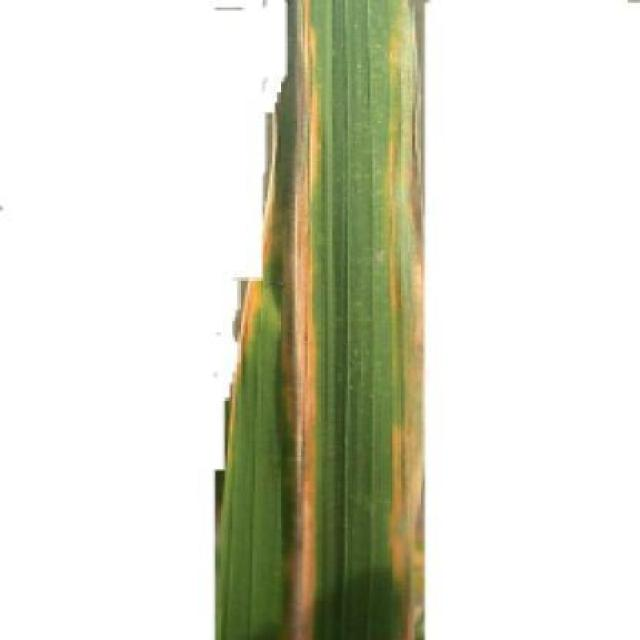Brown_Spot: (210, 0, 432, 640)
